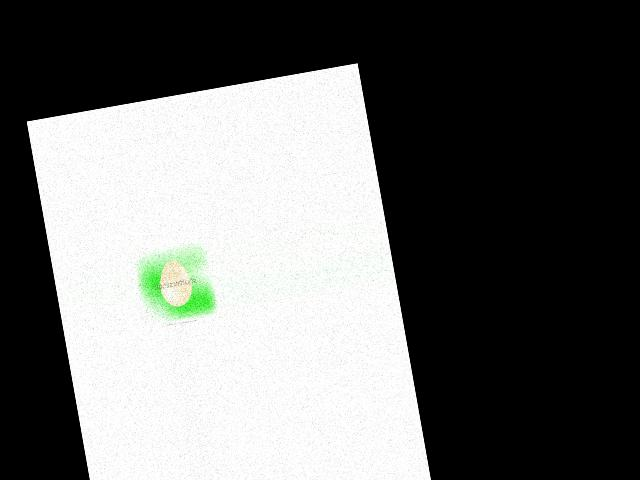egg: (155, 258, 194, 308)
